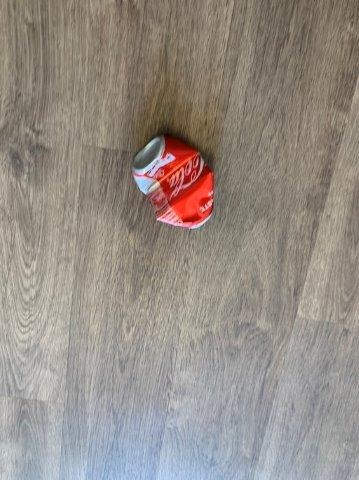kaleng: (133, 136, 215, 228)
